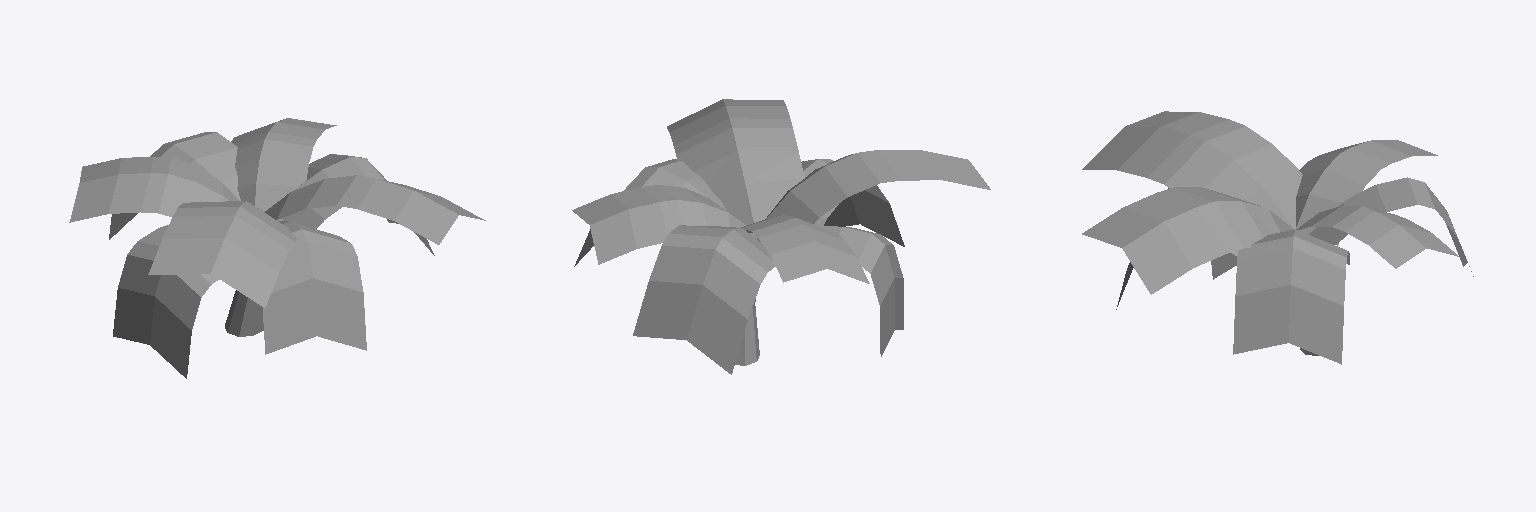
File: PalmTree_5.obj
3 views of the same model, side by side, from view 1: azimuth 30°, elevation 25°; view 2: azimuth 150°, elevation 25°; view 3: azimuth 270°, elevation 25° (orthographic).
Visible parts, largest first — view 1: PalmTree_5_Cube.010; view 2: PalmTree_5_Cube.010; view 3: PalmTree_5_Cube.010.
Boxes of the visible parts, x1,y1,x2,y2 form: PalmTree_5_Cube.010: [69, 118, 485, 378]; PalmTree_5_Cube.010: [572, 99, 990, 374]; PalmTree_5_Cube.010: [1082, 111, 1473, 364].
Size of the model in its own units: 3.49 by 1.8 by 3.62.